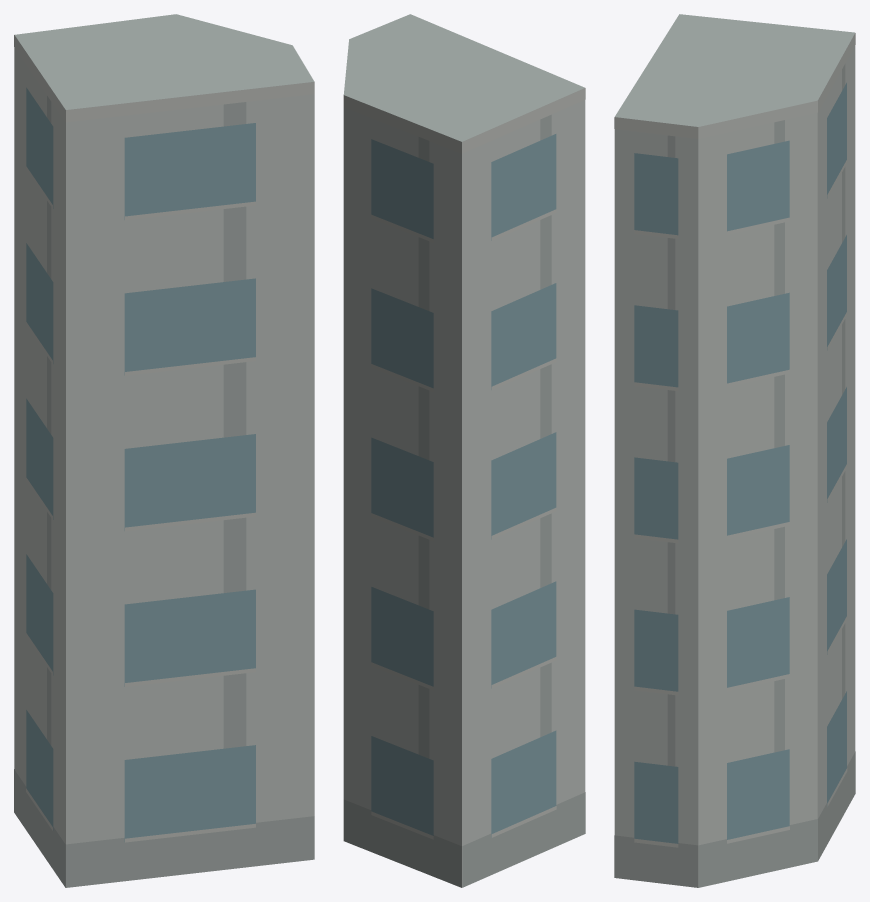
Rendered from survey-upis-32573965.glb.
3 renders of one model, left to right at view 1: azimuth 30°, elevation 25°; view 2: azimuth 150°, elevation 25°; view 3: azimuth 270°, elevation 25°, orthographic. The views are drawn at different scales.
Visible parts, largest first — view 1: survey-upis-32573965.tmp; view 2: survey-upis-32573965.tmp; view 3: survey-upis-32573965.tmp.
Boxes of the visible parts, <box> form: survey-upis-32573965.tmp: <box>14,14,314,887</box>; survey-upis-32573965.tmp: <box>343,14,585,887</box>; survey-upis-32573965.tmp: <box>614,14,855,887</box>.
Size of the model in its own units: 4.87 by 15.25 by 4.39.
